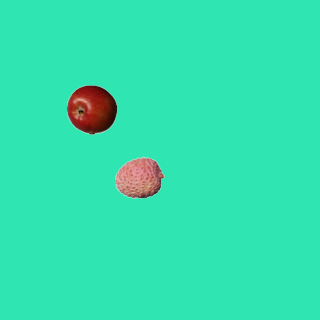Apple Braeburn: (66, 84, 116, 134)
Lychee: (114, 152, 164, 202)
